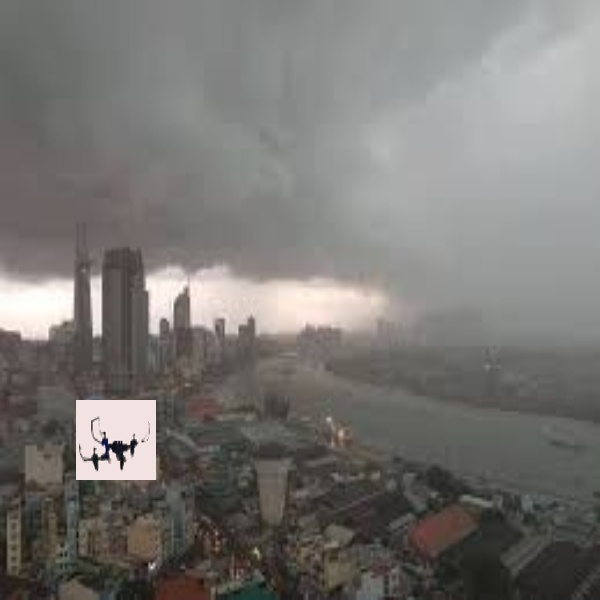drone: (75, 410, 158, 480)
